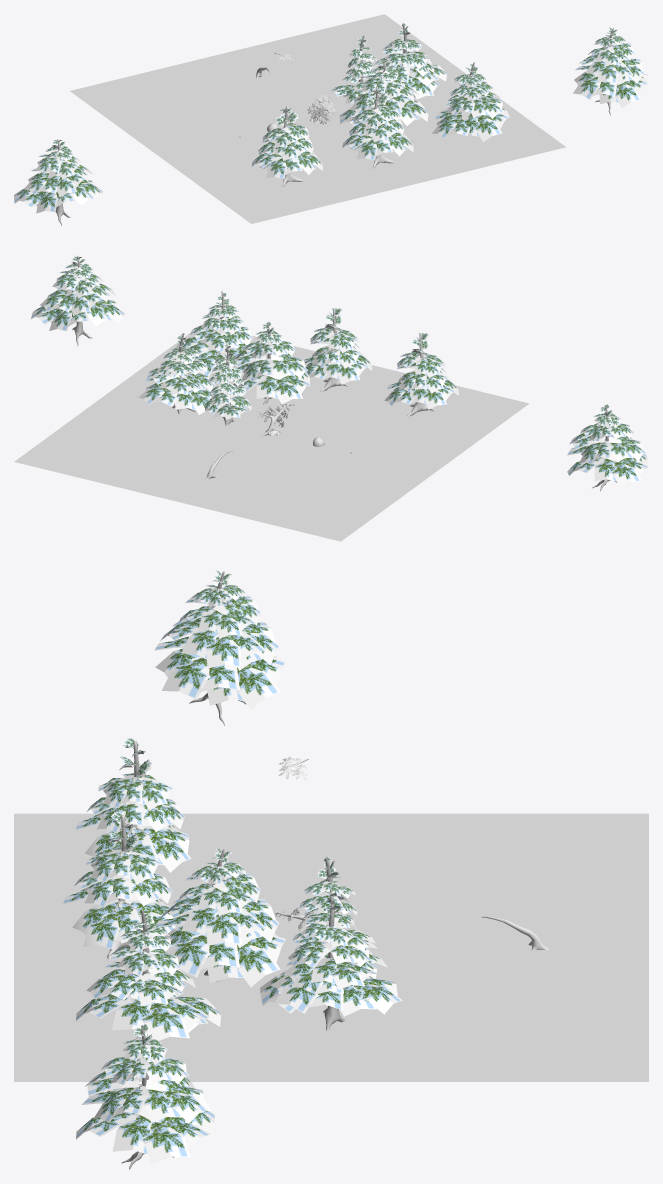
File: TreesForGame.fbx
3 views of the same model, one above another, from view 1: azimuth 30°, elevation 25°; view 2: azimuth 150°, elevation 25°; view 3: azimuth 270°, elevation 25° (orthographic). The views are drawn at different scales.
Visible parts, largest first — view 1: Plane, Cylinder.034, Cylinder.118, Cylinder.120, Cylinder.124, Cylinder.035, Cylinder.094, Cylinder.181, Cylinder.161, Cylinder.037, Cylinder.160, Cylinder.140 (+13 smaller); view 2: Plane, Cylinder.158, Cylinder.138, Cylinder.118, Cylinder.004, Cylinder.065, Cylinder.180, Cylinder.142, Cylinder.162, Cylinder.066, Cylinder.121, Cylinder.125 (+6 smaller); view 3: Plane, Cylinder.119, Cylinder.033, Cylinder.160, Cylinder.140, Cylinder.159, Cylinder.139, Cylinder.002, Cylinder.144, Cylinder.164, Cylinder.122, Cylinder.066 (+20 smaller).
Boxes of the visible parts, bbox=[...] form: Plane: bbox=[70, 14, 565, 223]; Cylinder.034: bbox=[461, 111, 508, 142]; Cylinder.118: bbox=[573, 71, 616, 99]; Cylinder.120: bbox=[599, 79, 647, 108]; Cylinder.124: bbox=[586, 60, 633, 83]; Cylinder.035: bbox=[432, 113, 470, 138]; Cylinder.094: bbox=[350, 136, 393, 160]; Cylinder.181: bbox=[259, 154, 302, 179]; Cylinder.161: bbox=[36, 191, 75, 213]; Cylinder.037: bbox=[471, 96, 503, 118]; Cylinder.160: bbox=[72, 179, 102, 205]; Cylinder.140: bbox=[399, 100, 428, 125]; Plane: bbox=[14, 324, 529, 541]; Cylinder.158: bbox=[594, 457, 648, 486]; Cylinder.138: bbox=[256, 375, 310, 404]; Cylinder.118: bbox=[87, 299, 124, 325]; Cylinder.004: bbox=[323, 359, 368, 384]; Cylinder.065: bbox=[175, 389, 212, 414]; Cylinder.180: bbox=[409, 384, 454, 409]; Cylinder.142: bbox=[262, 357, 307, 379]; Cylinder.162: bbox=[600, 439, 645, 462]; Cylinder.066: bbox=[138, 382, 176, 406]; Cylinder.121: bbox=[49, 309, 88, 331]; Cylinder.125: bbox=[59, 290, 103, 316]; Plane: bbox=[14, 813, 648, 1081]; Cylinder.119: bbox=[112, 1114, 210, 1164]; Cylinder.033: bbox=[112, 997, 209, 1040]; Cylinder.160: bbox=[155, 648, 239, 699]; Cylinder.140: bbox=[165, 925, 239, 977]; Cylinder.159: bbox=[207, 658, 285, 709]; Cylinder.139: bbox=[207, 935, 285, 987]; Cylinder.002: bbox=[72, 899, 142, 949]; Cylinder.144: bbox=[181, 907, 265, 945]; Cylinder.164: bbox=[181, 630, 265, 668]; Cylinder.122: bbox=[131, 1086, 207, 1123]; Cylinder.066: bbox=[340, 978, 402, 1016].
Bounding box in the file's own units: 193 × 28.46 × 100.
